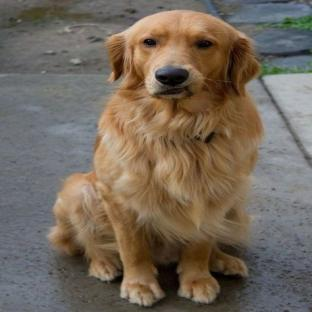Animal: (48, 10, 263, 306)
